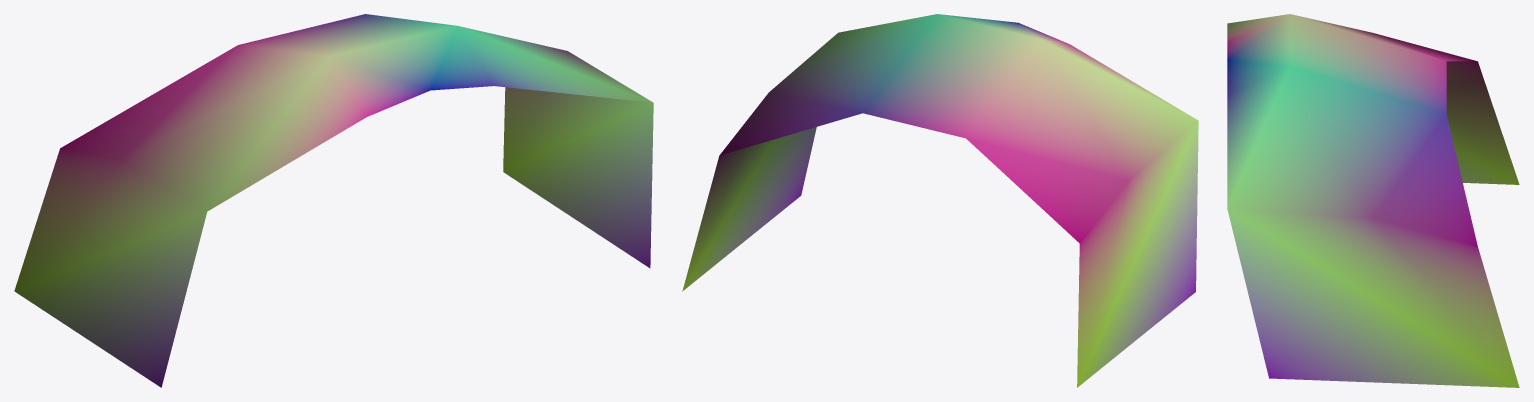
The picture shows the model from 3 angles, left to right: view 1: azimuth 30°, elevation 25°; view 2: azimuth 150°, elevation 25°; view 3: azimuth 270°, elevation 25°; orthographic projection. The views are drawn at different scales.
Parts seen in each view (by area): view 1: part; view 2: part; view 3: part.
Part boxes in pixels (x1,y1,x2,y2): part: (14, 14, 653, 387); part: (682, 14, 1198, 387); part: (1227, 14, 1519, 387).
Bounding box in the file's own units: 46 × 26 × 28.
